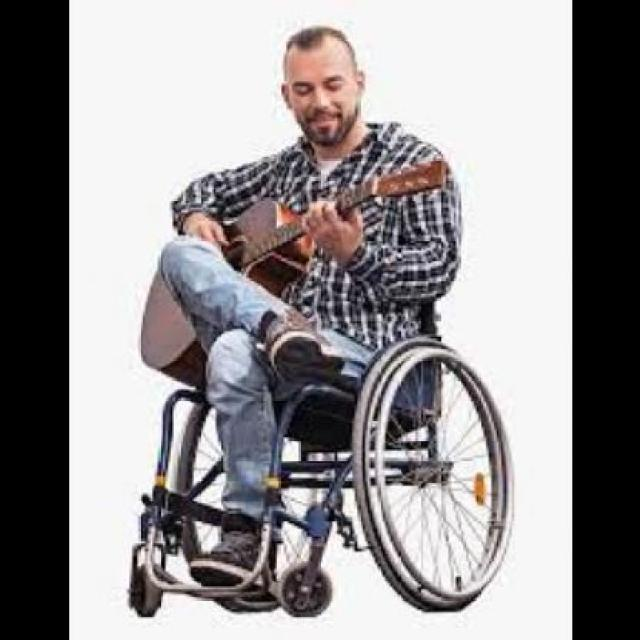wheelchairs: (134, 277, 517, 628)
